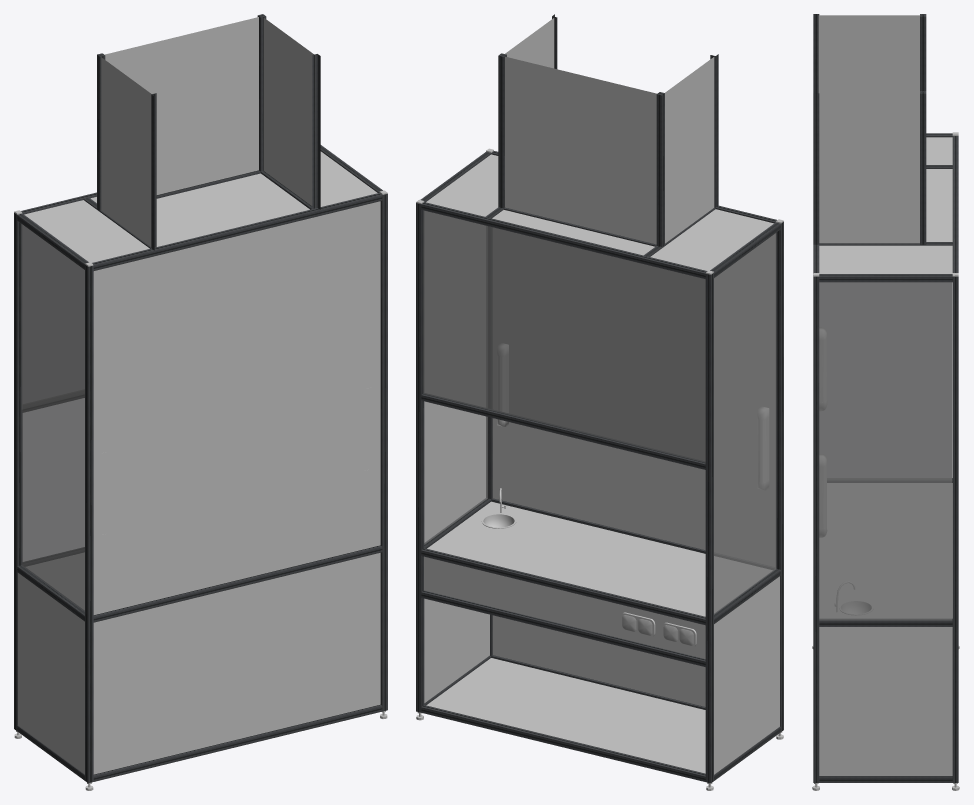
The model's file is Vitjajka.fbx.
The picture shows the model from 3 angles, left to right: view 1: azimuth 30°, elevation 25°; view 2: azimuth 150°, elevation 25°; view 3: azimuth 270°, elevation 25°; orthographic projection. The views are drawn at different scales.
Visible parts, largest first — view 1: stoleshnica, Lamp_l, Corkas, Steklo; view 2: Lamp_l, stoleshnica, Steklo, Corkas; view 3: Lamp_l, Steklo, stoleshnica, Corkas.
Part boxes in pixels (<box>): stoleshnica: <box>26,201,380,614</box>; Lamp_l: <box>14,17,387,790</box>; Corkas: <box>14,14,387,783</box>; Steklo: <box>21,224,84,611</box>; Lamp_l: <box>416,18,783,790</box>; stoleshnica: <box>427,228,775,616</box>; Steklo: <box>423,210,776,614</box>; Corkas: <box>416,14,783,783</box>; Lamp_l: <box>812,15,959,790</box>; Steklo: <box>819,282,952,620</box>; stoleshnica: <box>819,483,952,618</box>; Corkas: <box>813,14,958,782</box>.
Bounding box in the file's own units: 43.72 × 94.13 × 18.86.
